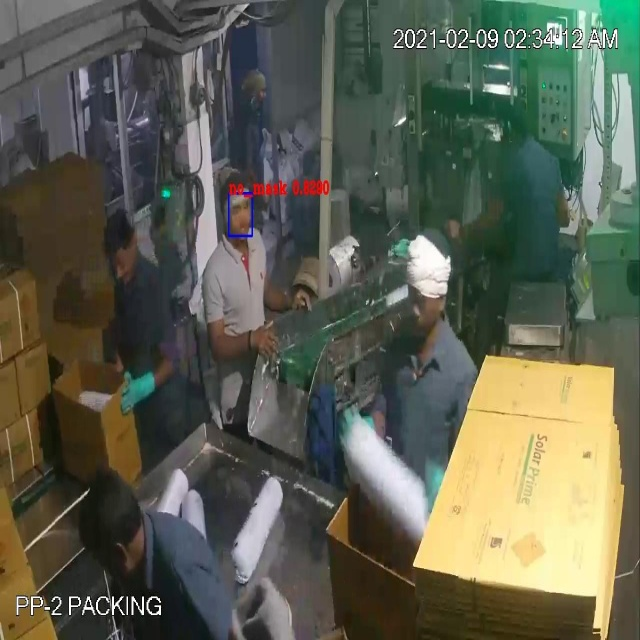Guantes: (97, 361, 163, 423)
Sin_guantes: (200, 295, 283, 383), (254, 272, 312, 325)
